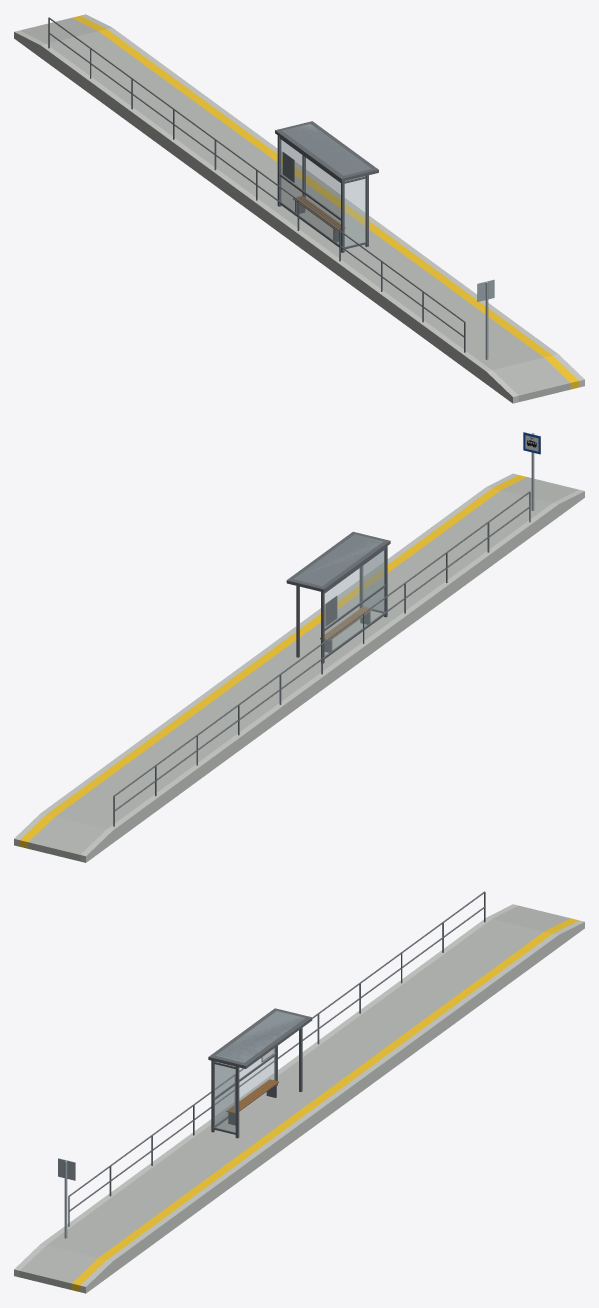
File: PT_TramStop_Platform_30m.glb
3 renders of one model, top to bottom at view 1: azimuth 30°, elevation 25°; view 2: azimuth 150°, elevation 25°; view 3: azimuth 330°, elevation 25°, orthographic.
Parts seen in each view (by area): view 1: Platform_Top, Platform_Curb, Shelter_Glass, Platform_Tactile, Shelter_Roof, Railing, Shelter_Roof_Glass, Shelter_Frame; view 2: Platform_Top, Platform_Curb, Platform_Tactile, Shelter_Glass, Shelter_Roof, Railing, Shelter_Roof_Glass, Shelter_Frame; view 3: Platform_Top, Platform_Curb, Platform_Tactile, Shelter_Roof, Railing, Shelter_Glass, Shelter_Roof_Glass, Shelter_Frame.
Part boxes in pixels (bbox=[...]): Platform_Top: bbox=[20, 18, 570, 401]; Platform_Curb: bbox=[14, 14, 584, 403]; Shelter_Glass: bbox=[280, 139, 365, 246]; Platform_Tactile: bbox=[72, 15, 579, 389]; Shelter_Roof: bbox=[275, 121, 378, 181]; Railing: bbox=[48, 17, 465, 352]; Shelter_Roof_Glass: bbox=[282, 124, 371, 175]; Shelter_Frame: bbox=[277, 135, 368, 252]; Platform_Top: bbox=[28, 477, 578, 861]; Platform_Curb: bbox=[14, 473, 584, 862]; Platform_Tactile: bbox=[19, 475, 526, 848]; Shelter_Glass: bbox=[325, 550, 384, 655]; Shelter_Roof: bbox=[286, 531, 390, 592]; Railing: bbox=[113, 491, 530, 826]; Shelter_Roof_Glass: bbox=[294, 534, 383, 585]; Shelter_Frame: bbox=[296, 546, 387, 663]; Platform_Top: bbox=[19, 905, 569, 1289]; Platform_Curb: bbox=[14, 904, 584, 1293]; Platform_Tactile: bbox=[71, 918, 578, 1291]; Shelter_Roof: bbox=[208, 1008, 312, 1068]; Railing: bbox=[68, 891, 485, 1226]; Shelter_Glass: bbox=[214, 1048, 275, 1132]; Shelter_Roof_Glass: bbox=[216, 1011, 304, 1062]; Shelter_Frame: bbox=[211, 1028, 302, 1138].
Size of the model in its own units: 2.5 by 2.97 by 30.
